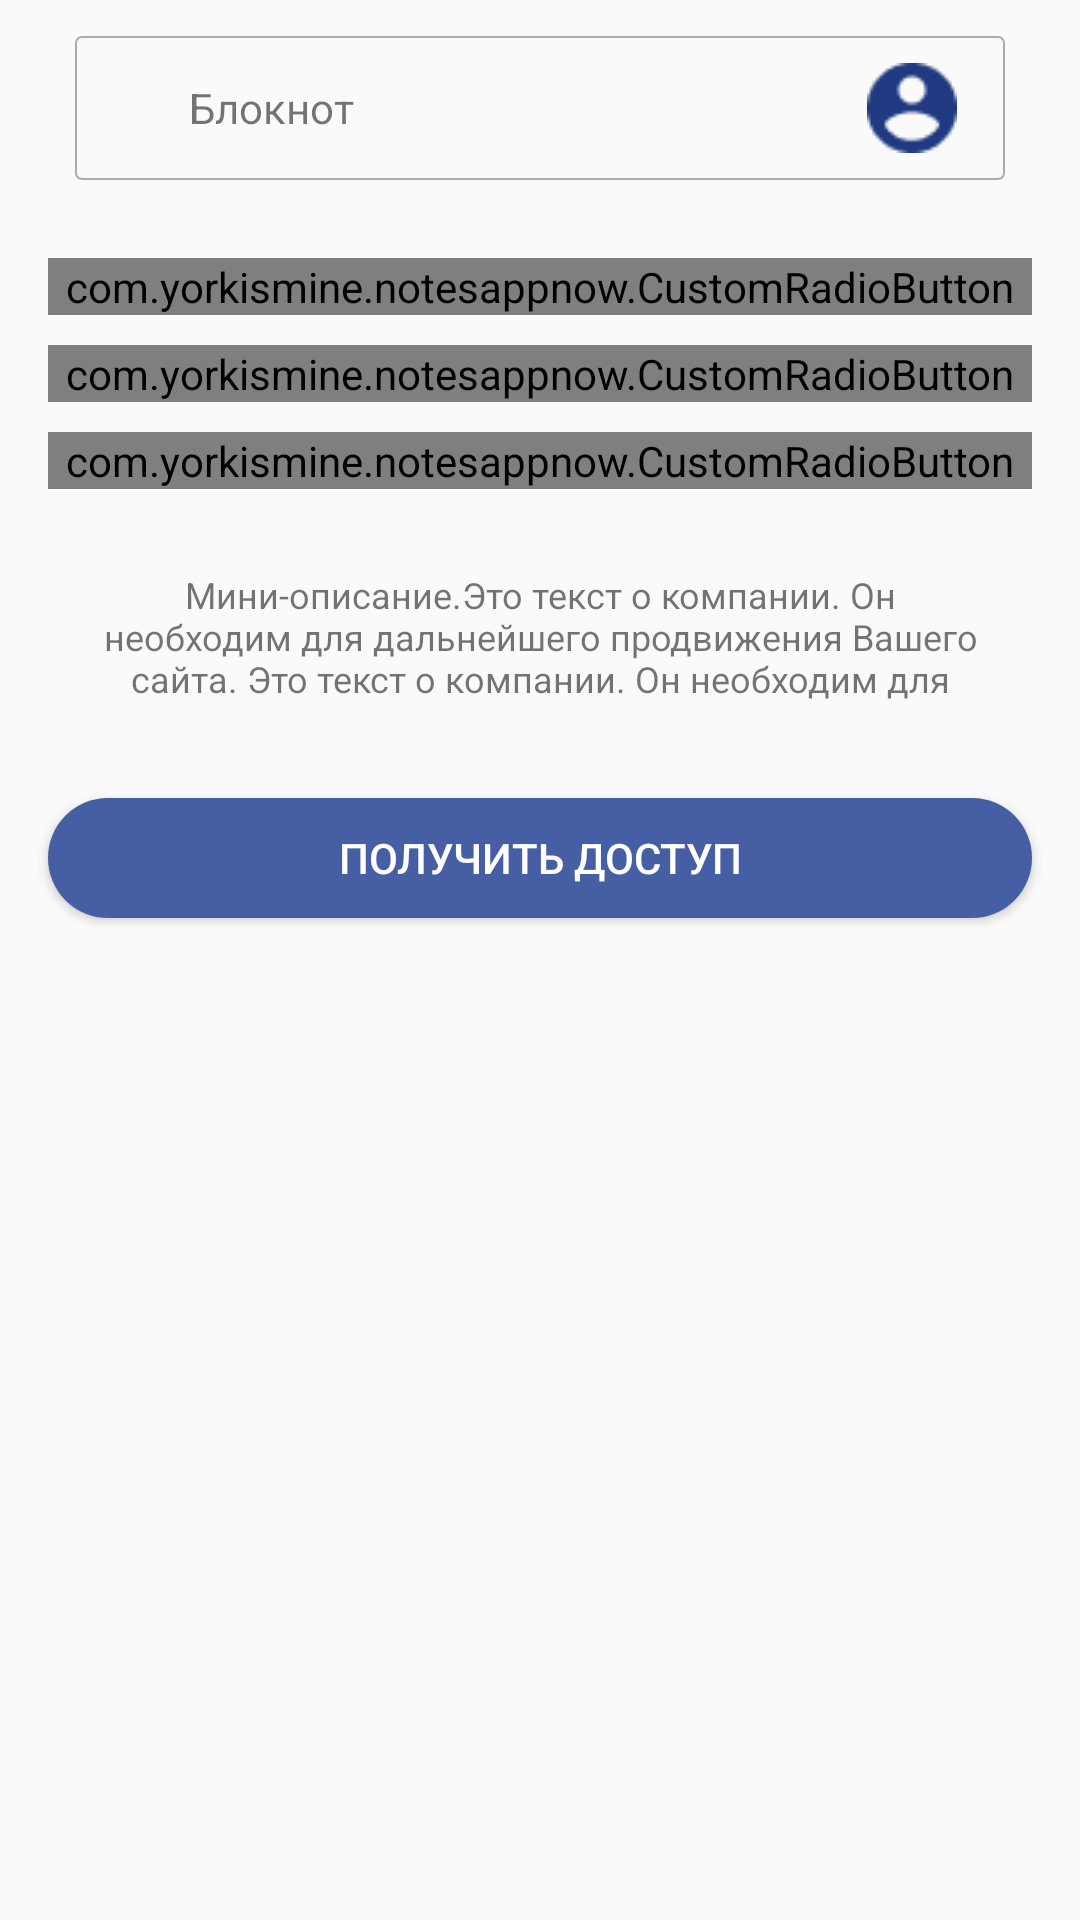

Icons on this 1080px×1920px Android screen, each with the point to tap as [x,y]:
user: [912,108]
